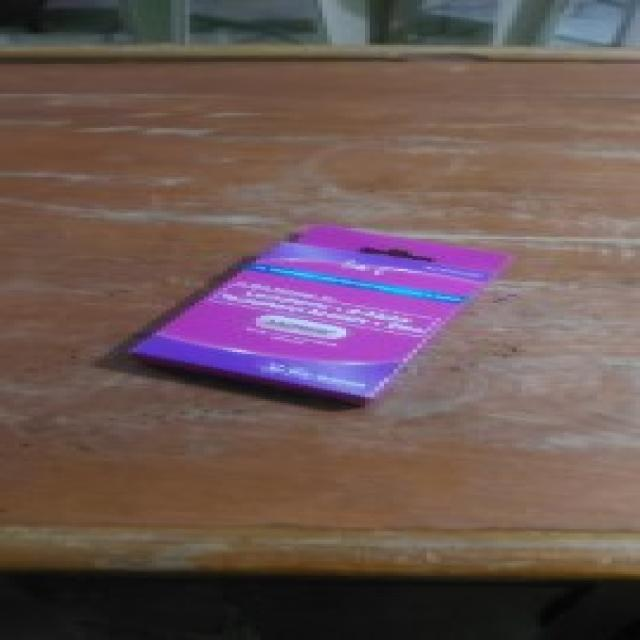Cacat: (126, 225, 512, 402)
